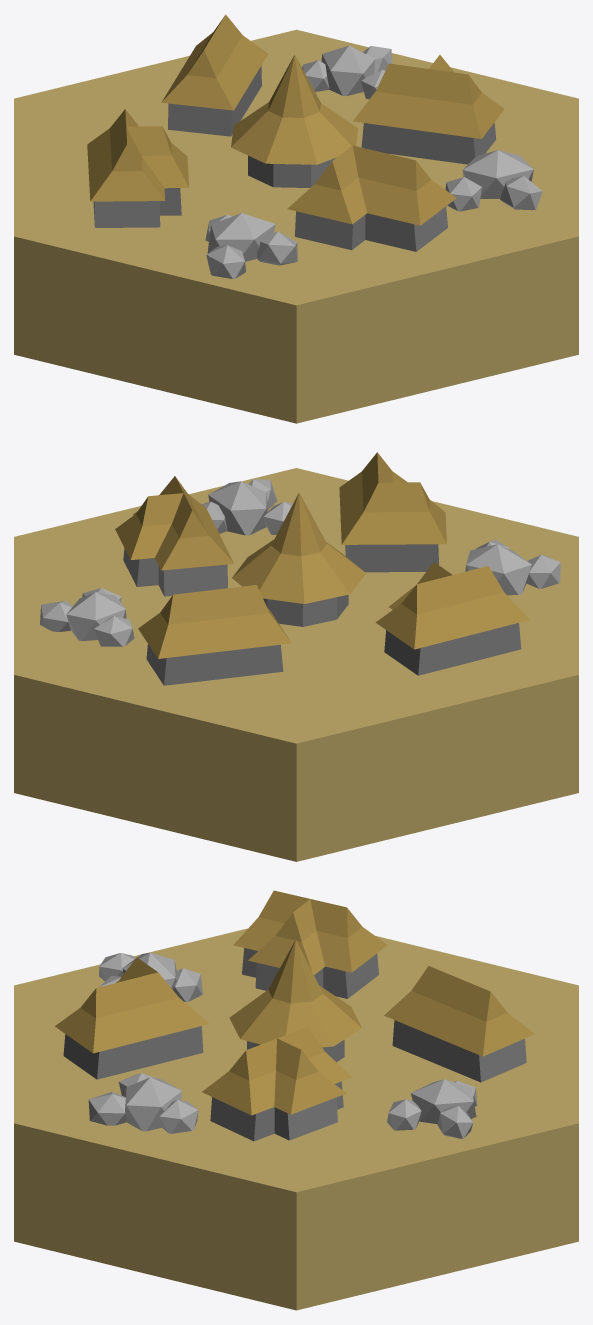
File: Casas_Rocoso_10.fbx
The picture shows the model from 3 angles, top to bottom: view 1: azimuth 30°, elevation 25°; view 2: azimuth 150°, elevation 25°; view 3: azimuth 270°, elevation 25°; orthographic projection.
Visible parts, largest first — view 1: Casas_Rocoso_10; view 2: Casas_Rocoso_10; view 3: Casas_Rocoso_10.
Part boxes in pixels (<box>): Casas_Rocoso_10: <box>14,14,578,423</box>; Casas_Rocoso_10: <box>14,452,578,861</box>; Casas_Rocoso_10: <box>14,890,578,1310</box>.
Bounding box in the file's own units: 200 × 78.5 × 173.
